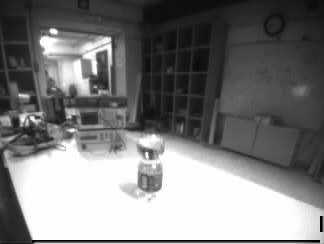Bottle: (138, 123, 163, 200)
